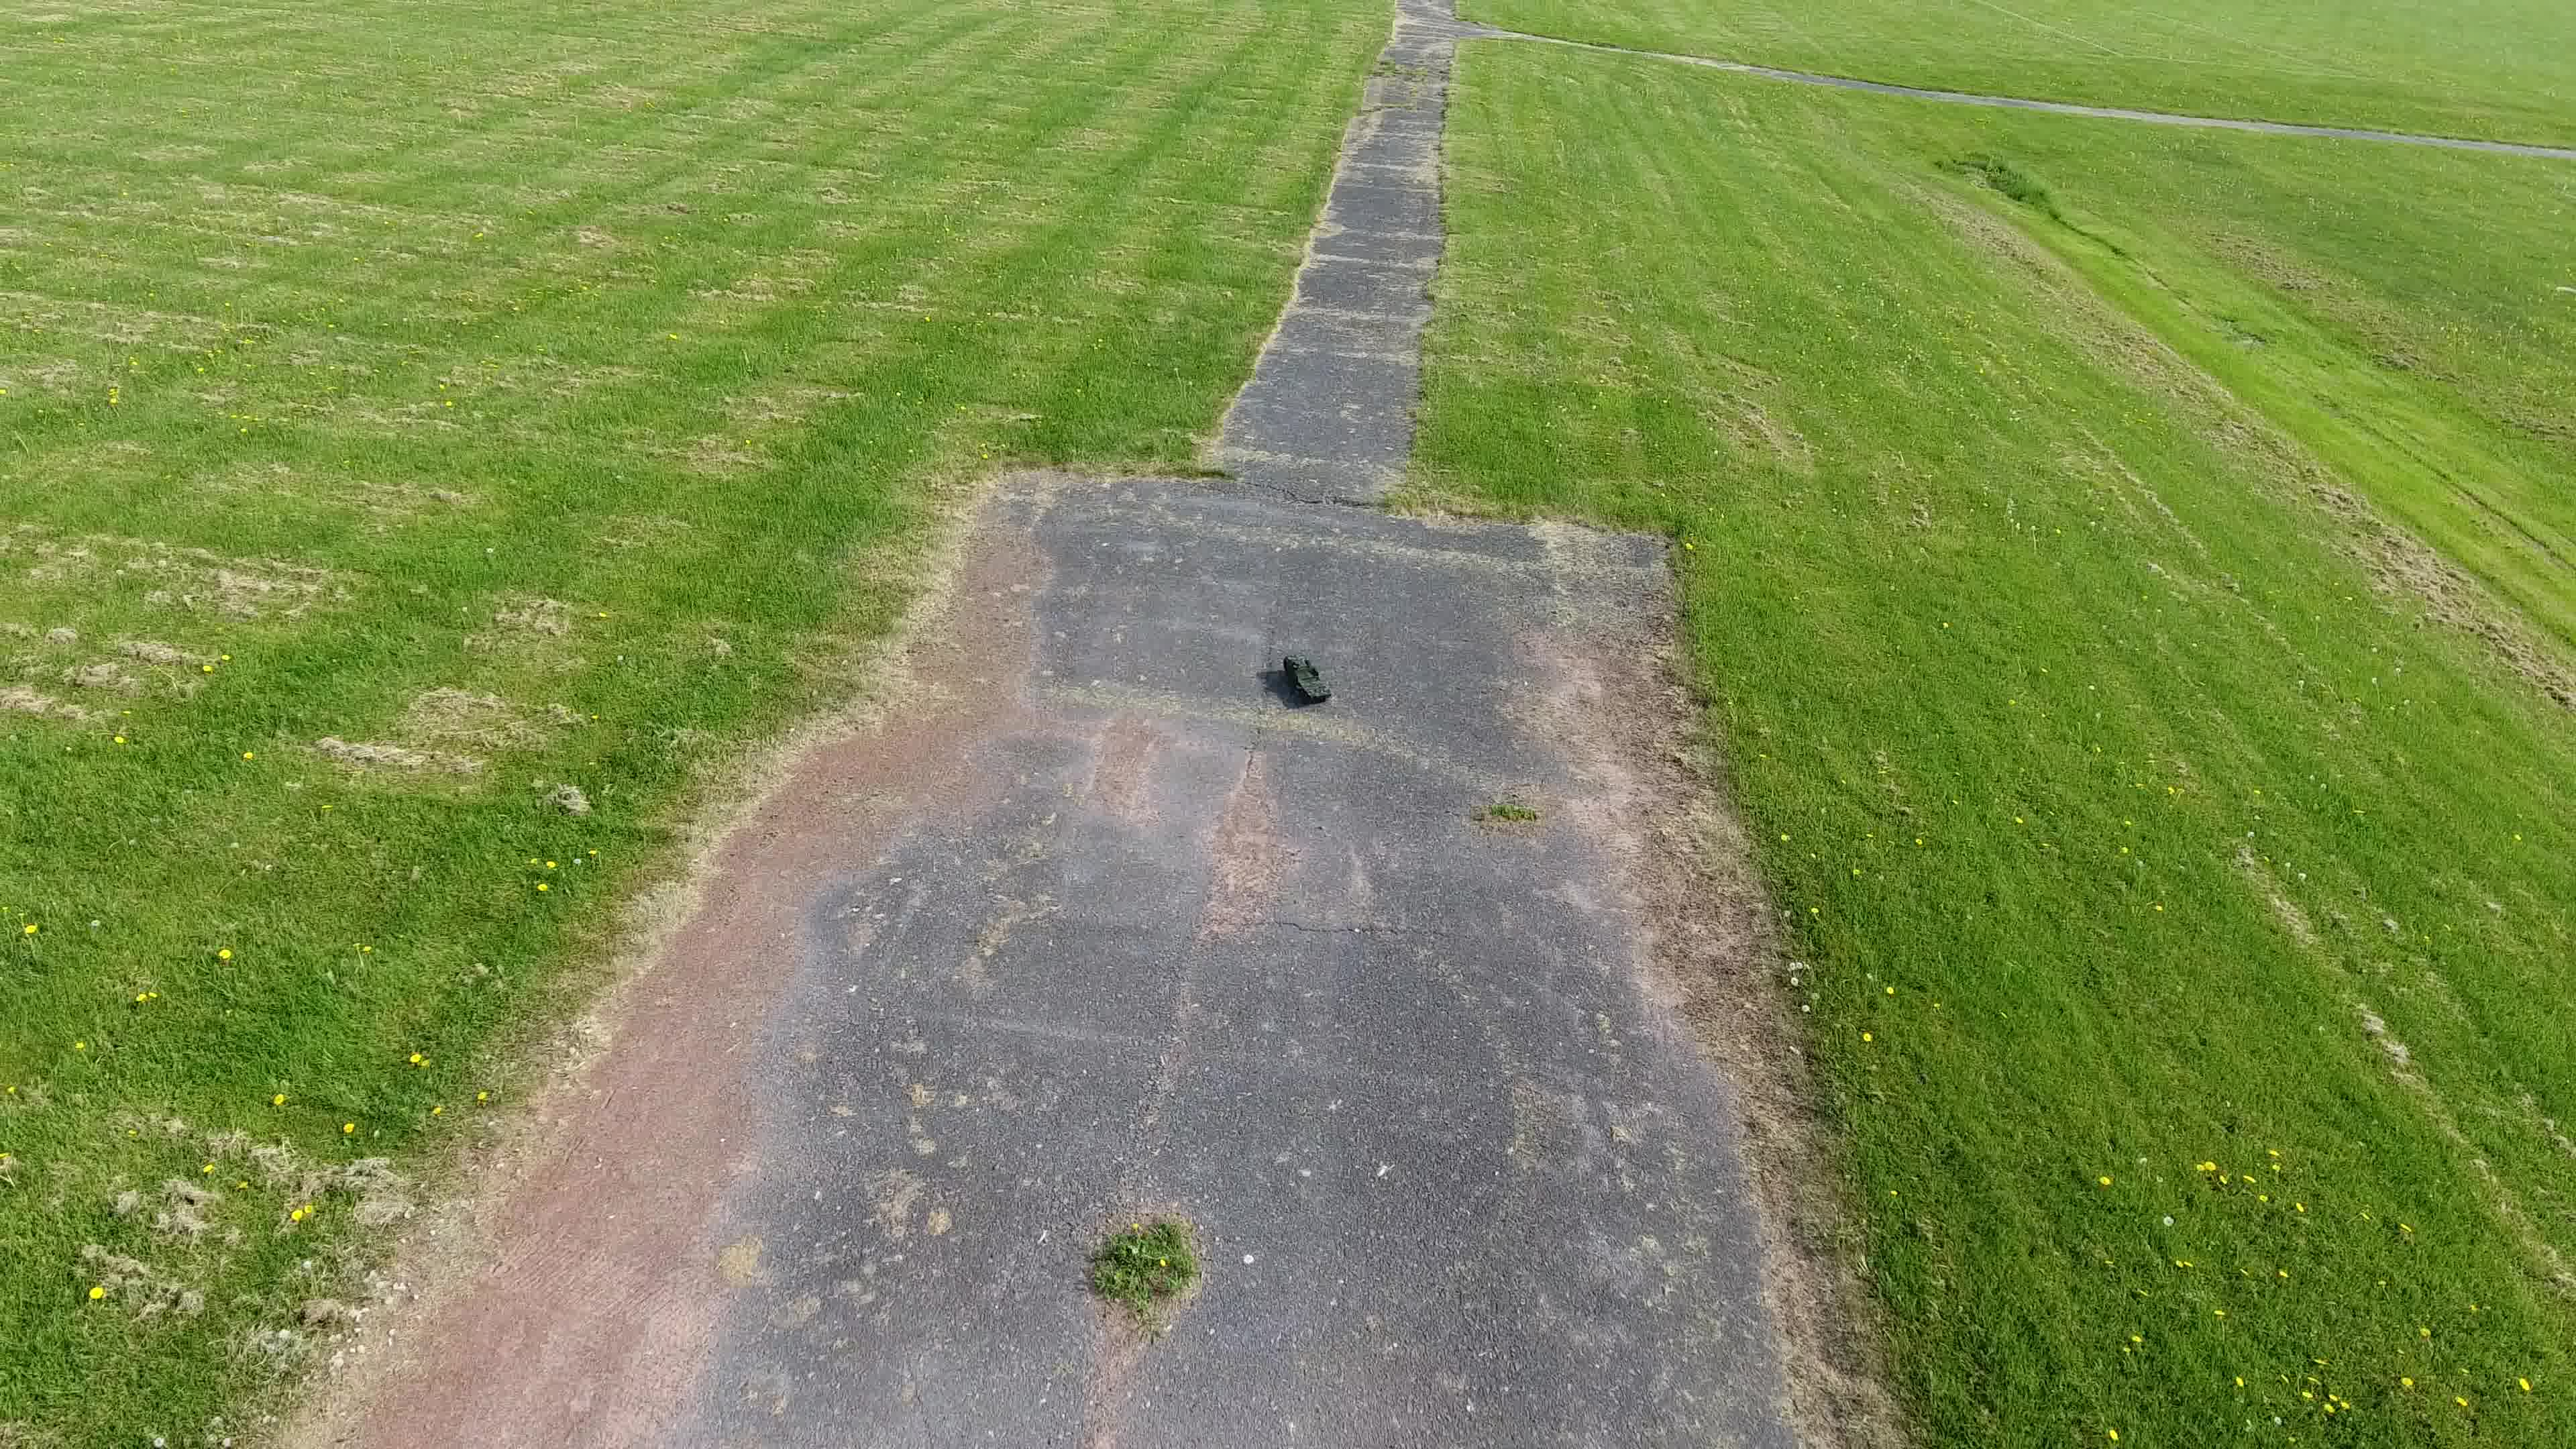transporter9_camo: (1281, 651, 1336, 706)
